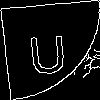U: (25, 25, 70, 75)
